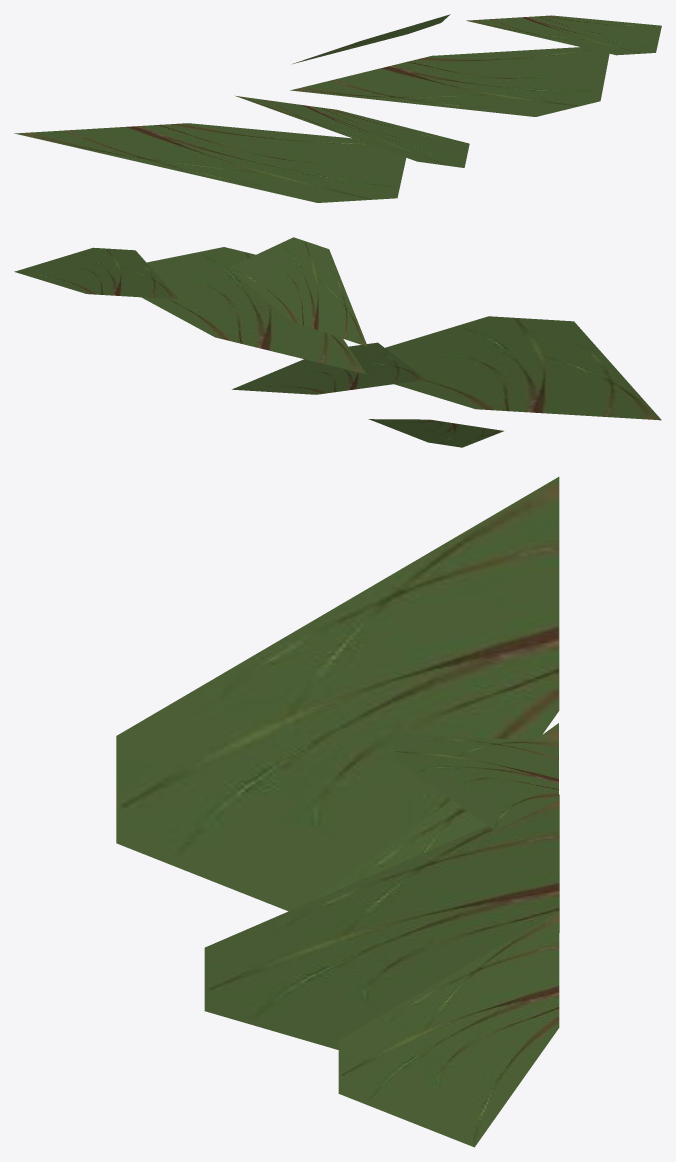
The model's file is brush_grasslowline.glb.
3 renders of one model, top to bottom at view 1: azimuth 30°, elevation 25°; view 2: azimuth 150°, elevation 25°; view 3: azimuth 270°, elevation 25°, orthographic. The views are drawn at different scales.
Bounding box in the file's own units: 46.72 × 10.96 × 14.31.
Materials: 1 (1 with a texture image).
